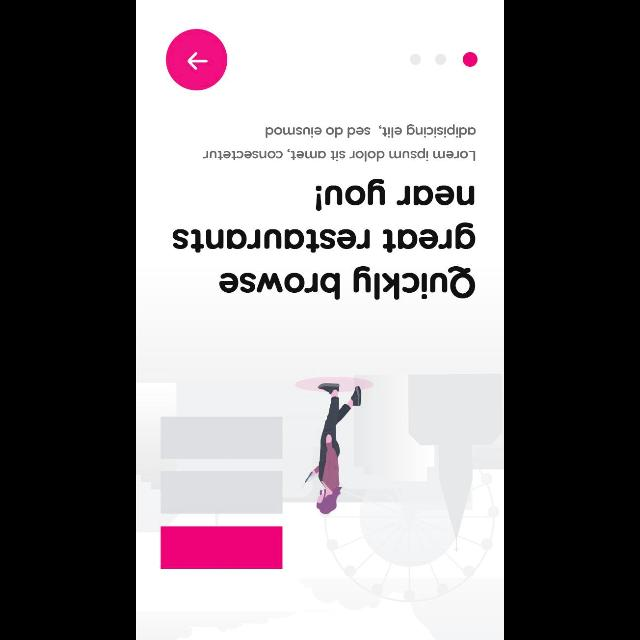icon: (165, 28, 227, 92)
image: (136, 372, 504, 640)
pageindicator: (408, 51, 478, 67)
text: (170, 178, 476, 300), (201, 124, 475, 162)
